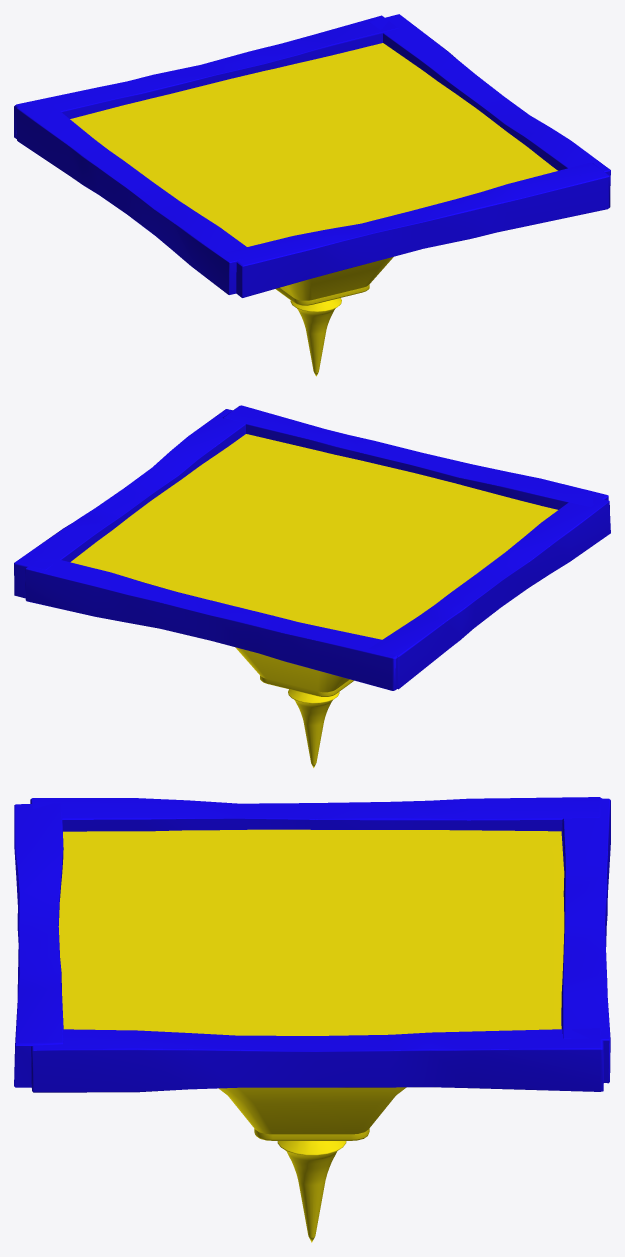
File: SM_Dragon_corbel.fbx
3 renders of one model, top to bottom at view 1: azimuth 30°, elevation 25°; view 2: azimuth 150°, elevation 25°; view 3: azimuth 270°, elevation 25°, orthographic. The views are drawn at different scales.
Visible parts, largest first — view 1: Dragons_Corbel; view 2: Dragons_Corbel; view 3: Dragons_Corbel.
Boxes of the visible parts, x1,y1,x2,y2 form: Dragons_Corbel: (14,14,610,376); Dragons_Corbel: (14,405,610,767); Dragons_Corbel: (14,797,610,1242).
Bounding box in the file's own units: 104 × 61.33 × 104.
